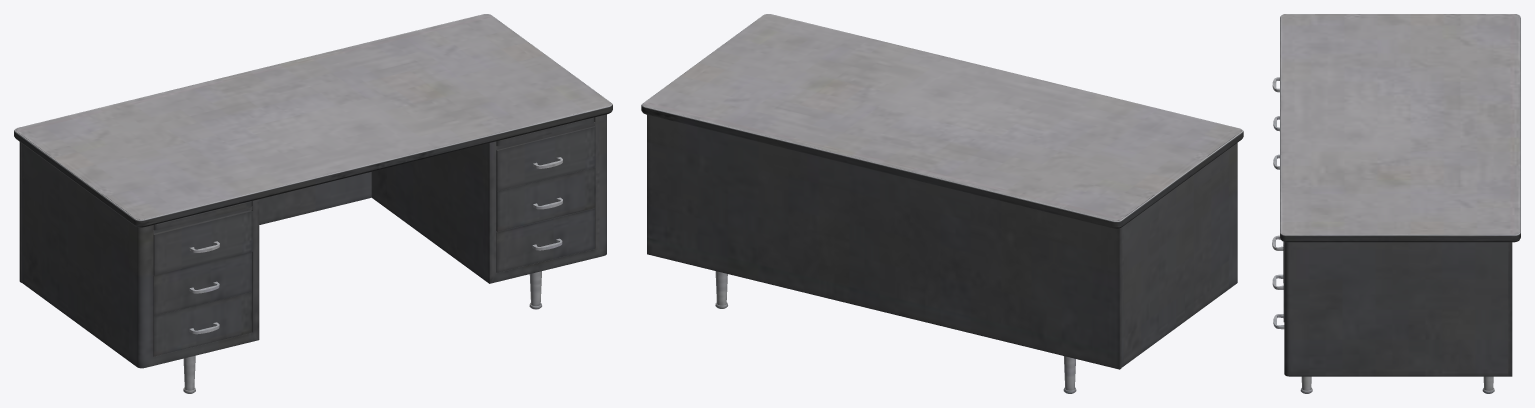
The model's file is metal_office_desk.glb.
3 renders of one model, left to right at view 1: azimuth 30°, elevation 25°; view 2: azimuth 150°, elevation 25°; view 3: azimuth 270°, elevation 25°, orthographic. The views are drawn at different scales.
Parts seen in each view (by area): view 1: metal_office_desk, metal_office_desk_drawer_04, metal_office_desk_drawer_01, metal_office_desk_drawer_02, metal_office_desk_drawer_03, metal_office_desk_drawer_06, metal_office_desk_drawer_05, metal_office_desk_tray_01, metal_office_desk_tray_02; view 2: metal_office_desk; view 3: metal_office_desk.
Part boxes in pixels (x1,y1,x2,y2): metal_office_desk: (14, 14, 612, 393); metal_office_desk_drawer_04: (153, 210, 252, 275); metal_office_desk_drawer_01: (496, 126, 595, 191); metal_office_desk_drawer_02: (496, 167, 595, 231); metal_office_desk_drawer_03: (496, 208, 594, 272); metal_office_desk_drawer_06: (153, 292, 251, 356); metal_office_desk_drawer_05: (153, 252, 251, 315); metal_office_desk_tray_01: (153, 201, 251, 230); metal_office_desk_tray_02: (496, 117, 594, 146); metal_office_desk: (641, 14, 1243, 393); metal_office_desk: (1280, 14, 1520, 393).
Bounding box in the file's own units: 2 × 0.7875 × 0.9472.
Materials: 1 (1 with a texture image).
